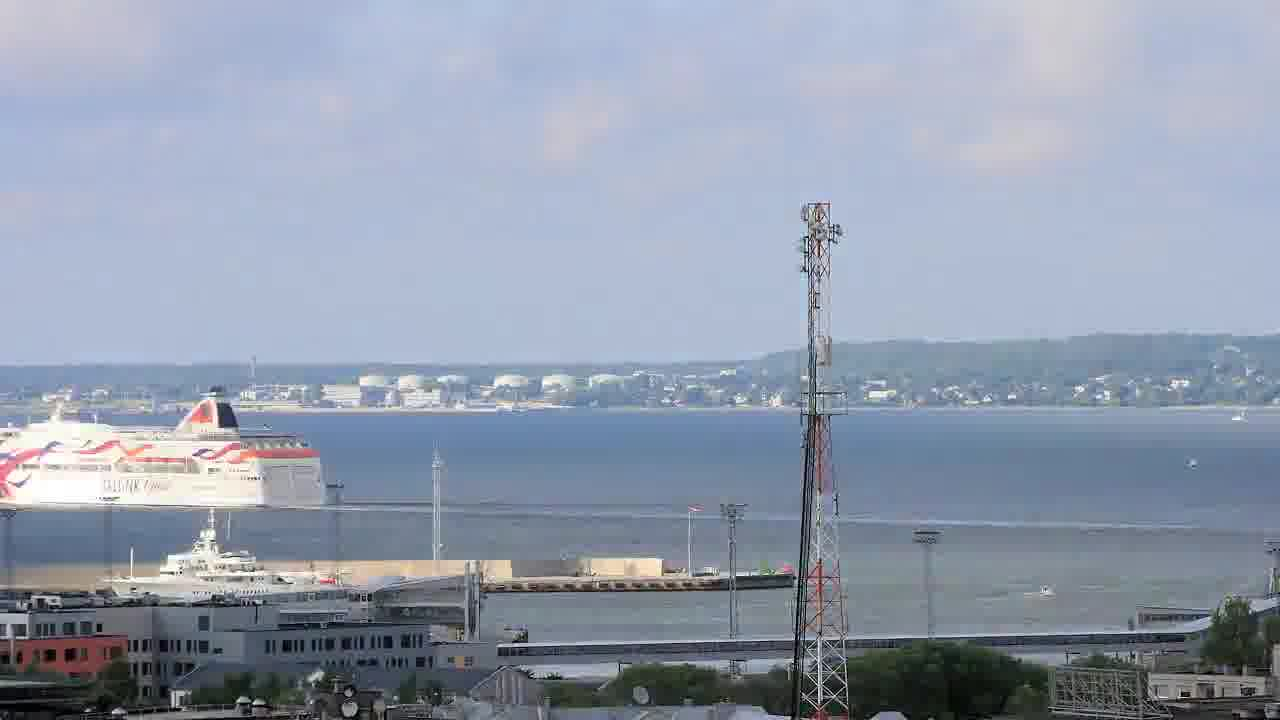type-3: (0, 368, 336, 516), (96, 508, 381, 605)
type-4: (1017, 562, 1064, 617)
